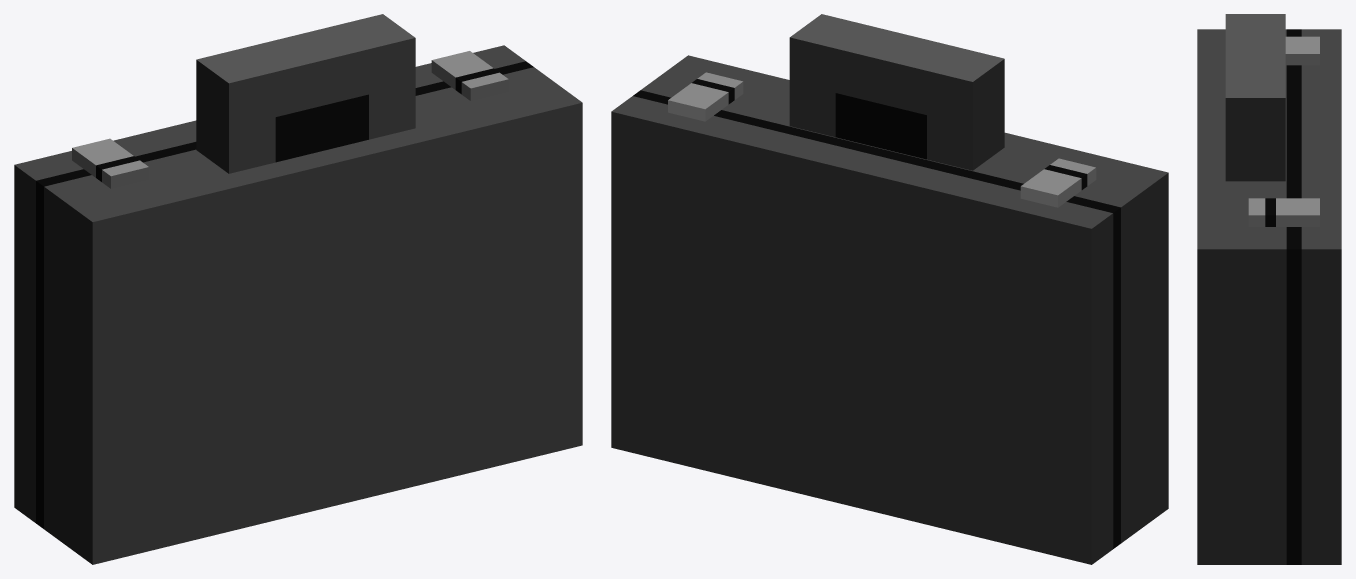
The model's file is Item_Drop_Money_Big_01.FBX.
3 views of the same model, side by side, from view 1: azimuth 30°, elevation 25°; view 2: azimuth 150°, elevation 25°; view 3: azimuth 270°, elevation 25° (orthographic). The views are drawn at different scales.
Visible parts, largest first — view 1: Items_BriefCase_02; view 2: Items_BriefCase_02; view 3: Items_BriefCase_02.
Boxes of the visible parts, box(x1,y1,x2,y2) form: Items_BriefCase_02: box(14, 14, 582, 564); Items_BriefCase_02: box(611, 14, 1168, 564); Items_BriefCase_02: box(1197, 14, 1341, 564).
Size of the model in its own units: 155 by 131 by 43.11.
